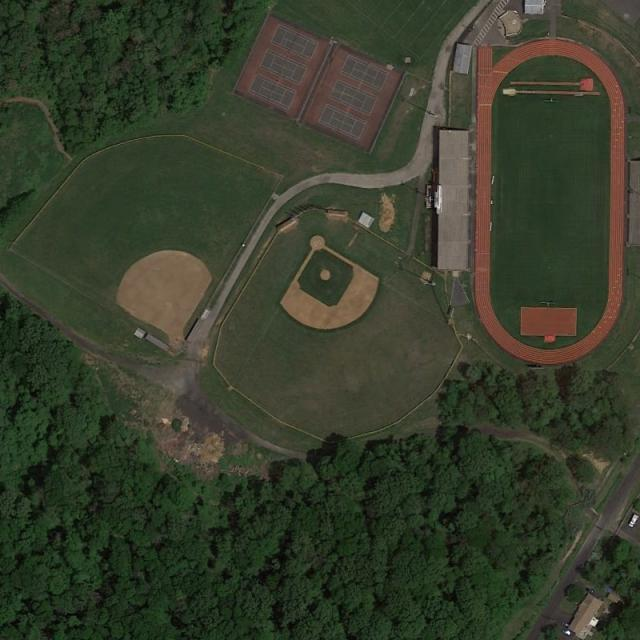vehicle: (628, 514, 638, 529)
